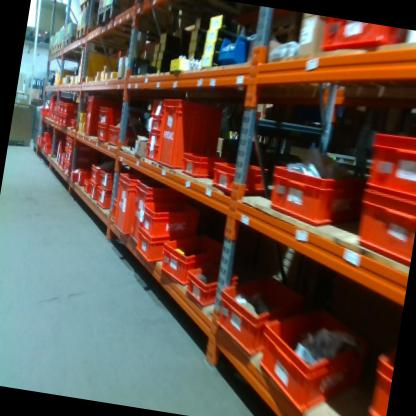pallet: (94, 0, 125, 29), (73, 25, 91, 47), (75, 0, 98, 14), (61, 36, 73, 49), (48, 43, 57, 59), (55, 38, 62, 55)
small_load_carrier: (252, 301, 372, 416), (210, 265, 311, 366), (266, 161, 366, 232), (155, 96, 223, 175), (352, 186, 416, 269), (155, 225, 232, 293), (362, 121, 416, 199), (315, 16, 406, 61), (124, 177, 175, 252), (135, 192, 204, 246), (207, 153, 271, 205), (182, 256, 230, 309), (110, 167, 143, 237), (365, 349, 394, 416), (131, 225, 170, 264), (180, 148, 217, 183), (82, 94, 109, 137), (104, 124, 141, 151), (98, 105, 129, 126), (66, 137, 92, 159), (92, 188, 112, 216), (96, 169, 118, 193), (67, 151, 94, 168), (148, 96, 166, 119), (60, 102, 82, 117), (44, 141, 62, 159), (75, 167, 92, 185), (88, 162, 102, 183), (143, 145, 159, 161), (144, 132, 161, 147), (147, 118, 162, 134), (95, 121, 107, 140), (61, 115, 73, 130), (83, 178, 93, 194), (88, 182, 97, 198), (42, 129, 53, 141), (62, 136, 71, 150), (68, 118, 76, 128), (65, 168, 73, 178), (62, 148, 69, 159), (61, 161, 67, 172)
